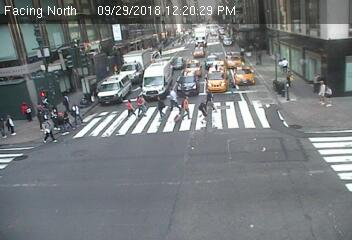car: (140, 60, 172, 101), (97, 72, 132, 106), (207, 69, 228, 96), (233, 65, 256, 87), (178, 74, 199, 98), (193, 23, 209, 48), (183, 60, 204, 78), (225, 51, 246, 68), (168, 52, 182, 71), (191, 45, 205, 59), (206, 54, 218, 67), (222, 36, 235, 47)
